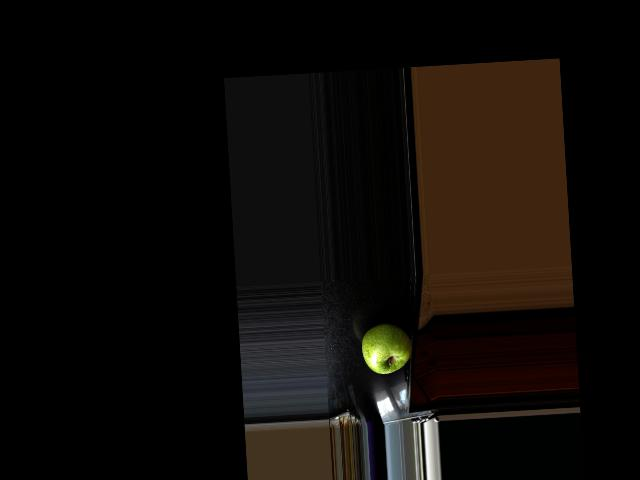apple: (357, 319, 414, 378)
